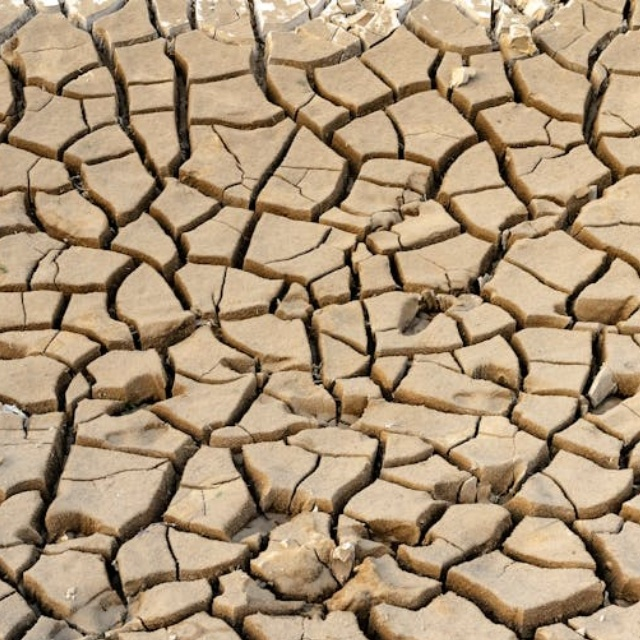网状裂隙: (0, 0, 513, 640), (0, 218, 640, 640), (0, 3, 482, 213)
